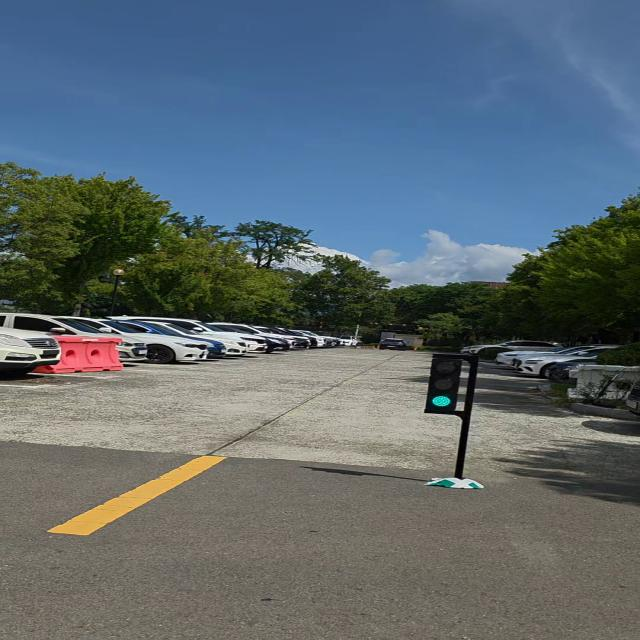green: (422, 355, 465, 414)
